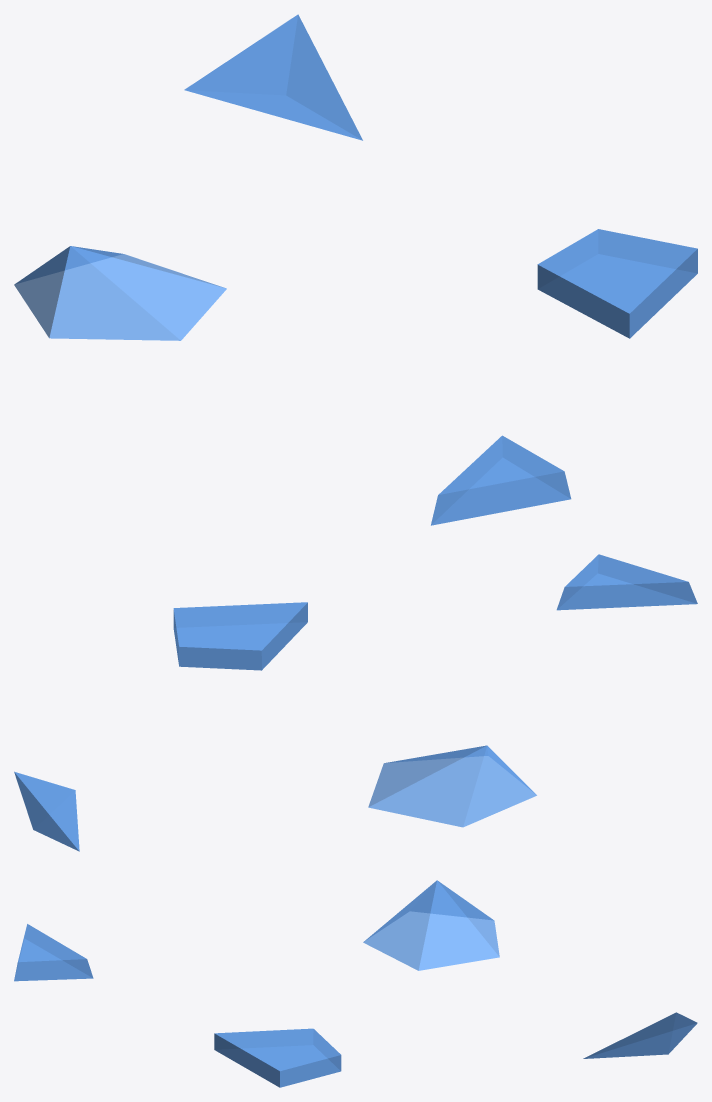
The model's file is Crystals_s_03 2.fbx.
3 views of the same model, one above another, from view 1: azimuth 30°, elevation 25°; view 2: azimuth 150°, elevation 25°; view 3: azimuth 270°, elevation 25° (orthographic). The views are drawn at different scales.
Visible parts, largest first — view 1: Crystals_s_03; view 2: Crystals_s_03; view 3: Crystals_s_03.
Part boxes in pixels (box(x1,y1,x2,y2)): Crystals_s_03: box(14, 14, 697, 525); Crystals_s_03: box(14, 554, 697, 851); Crystals_s_03: box(14, 880, 697, 1087).
Bounding box in the file's own units: 49.86 × 6.36 × 80.94.
